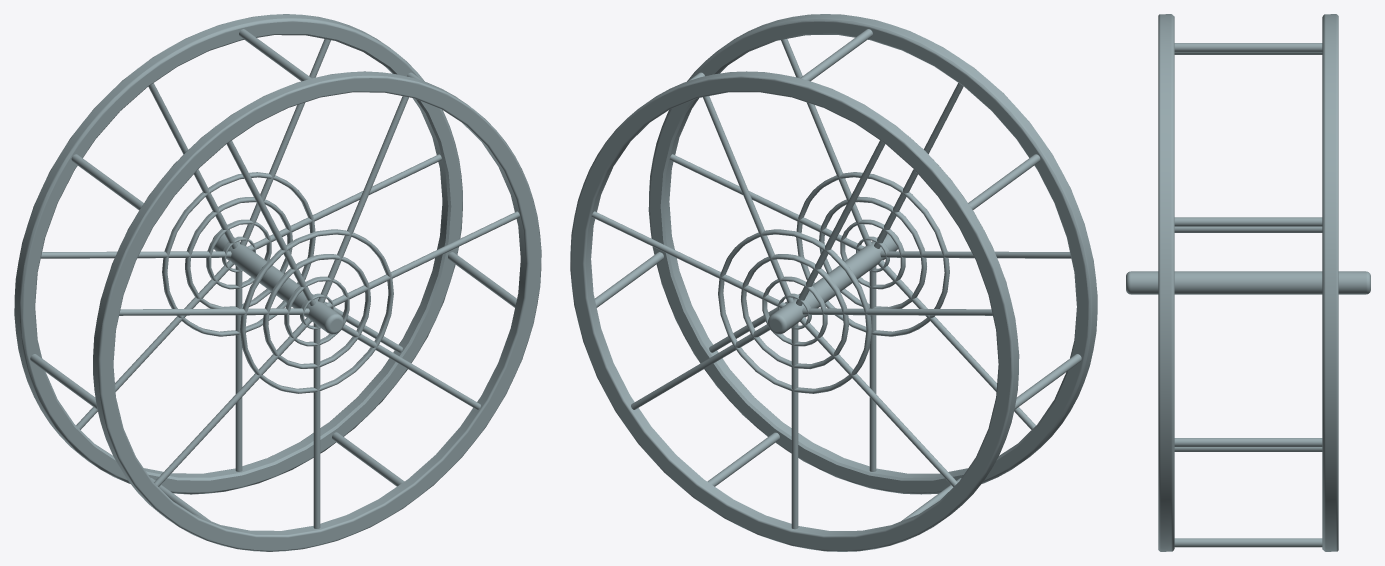
Rendered from Ferris02.FBX.
3 renders of one model, left to right at view 1: azimuth 30°, elevation 25°; view 2: azimuth 150°, elevation 25°; view 3: azimuth 270°, elevation 25°, orthographic. The views are drawn at different scales.
Visible parts, largest first — view 1: Ferris02; view 2: Ferris02; view 3: Ferris02.
Boxes of the visible parts, <box> form: Ferris02: <box>14,14,541,551</box>; Ferris02: <box>570,14,1097,551</box>; Ferris02: <box>1126,14,1370,551</box>.
Size of the model in its own units: 0.7639 by 0.7644 by 0.3478.
